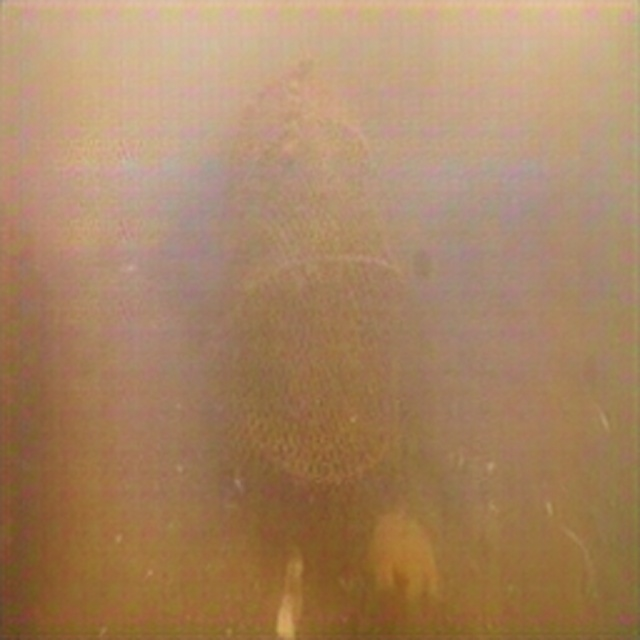mine: (212, 58, 407, 570)
